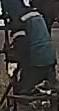vest: (10, 9, 58, 68)
